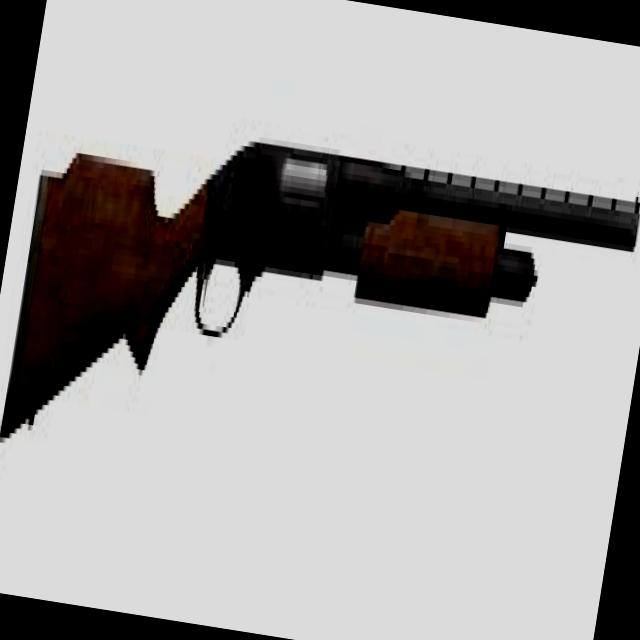long weapon: (0, 29, 640, 505)
